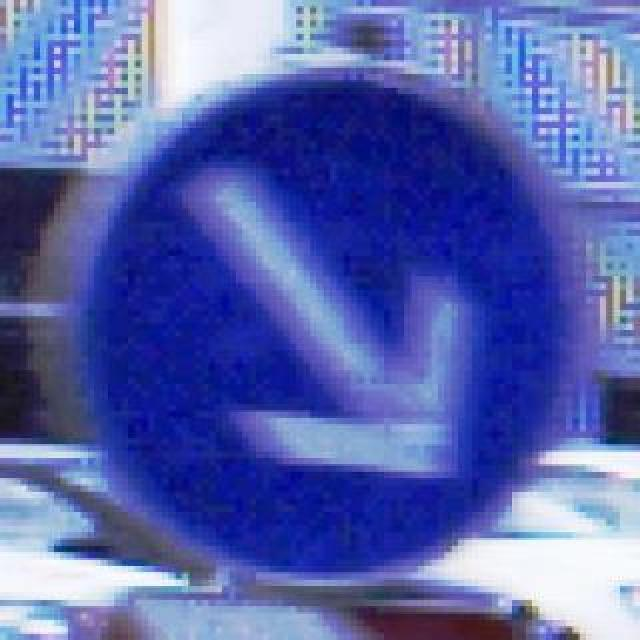keep right: (66, 48, 566, 580)
